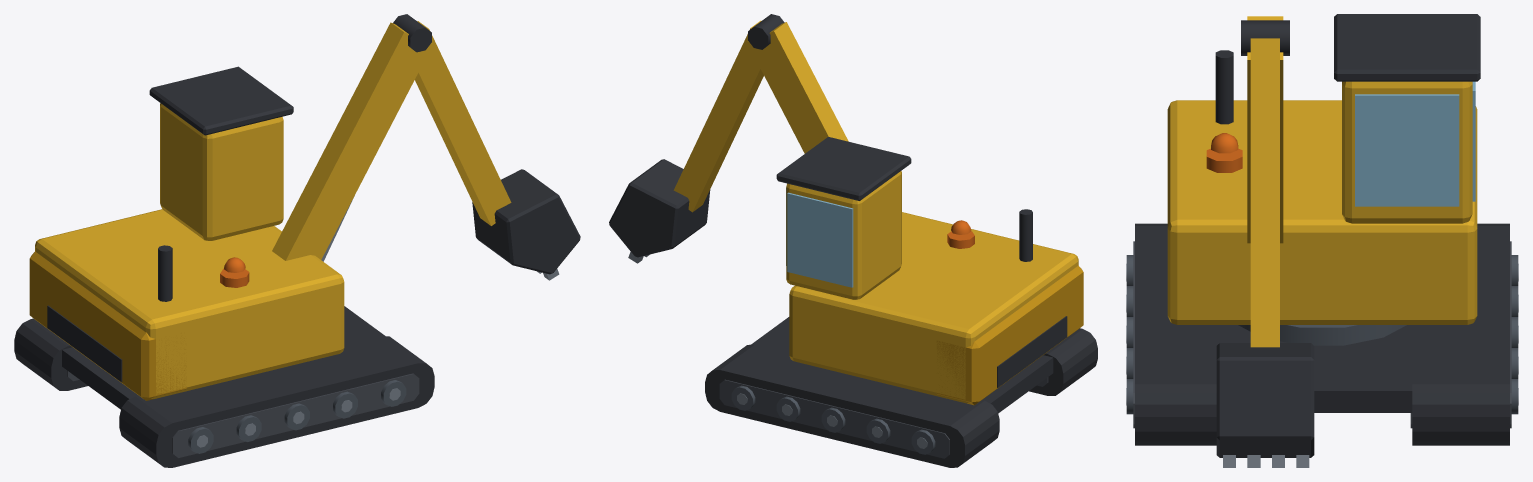
File: site-deco2.glb
The picture shows the model from 3 angles, left to right: view 1: azimuth 30°, elevation 25°; view 2: azimuth 150°, elevation 25°; view 3: azimuth 270°, elevation 25°; orthographic projection. The views are drawn at different scales.
Visible parts, largest first — view 1: site-deco2; view 2: site-deco2; view 3: site-deco2.
Boxes of the visible parts, left/top/right/bottom form: site-deco2: left=14, top=14, right=580, bottom=467; site-deco2: left=609, top=14, right=1097, bottom=467; site-deco2: left=1126, top=14, right=1518, bottom=467.
Bounding box in the file's own units: 4.28 × 3.03 × 2.41.
